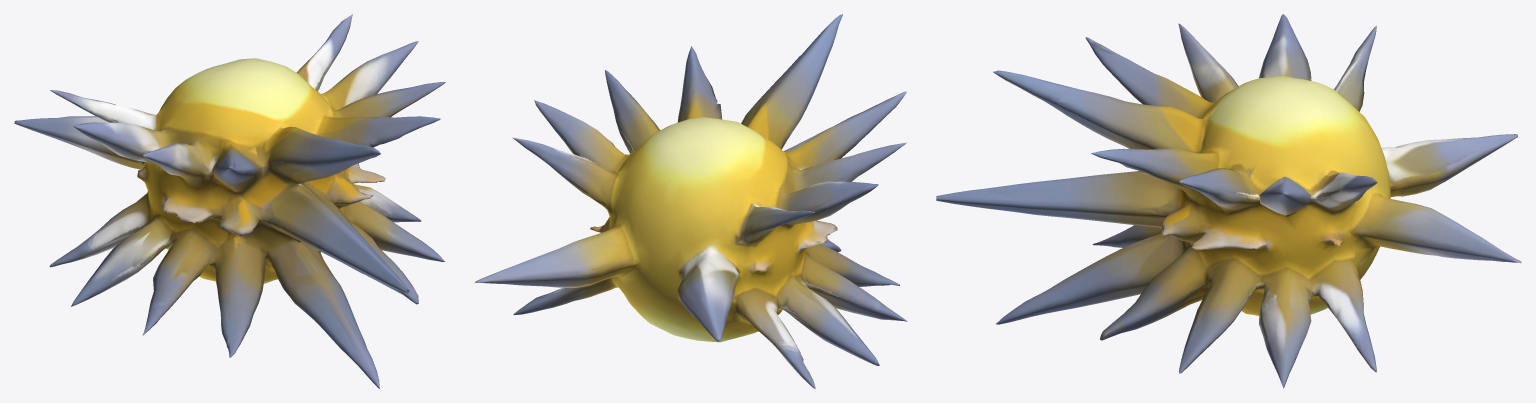
The model's file is Amenominakanushi.glb.
The picture shows the model from 3 angles, left to right: view 1: azimuth 30°, elevation 25°; view 2: azimuth 150°, elevation 25°; view 3: azimuth 270°, elevation 25°; orthographic projection. The views are drawn at different scales.
Visible parts, largest first — view 1: Retopo_Amenominakanushi.002; view 2: Retopo_Amenominakanushi.002; view 3: Retopo_Amenominakanushi.002.
Part boxes in pixels (x1,y1,x2,y2): Retopo_Amenominakanushi.002: (14, 14, 445, 388); Retopo_Amenominakanushi.002: (474, 14, 907, 388); Retopo_Amenominakanushi.002: (936, 14, 1521, 388).
Size of the model in its own units: 1.43 by 0.9268 by 1.93.
Materials: 1 (1 with a texture image).
